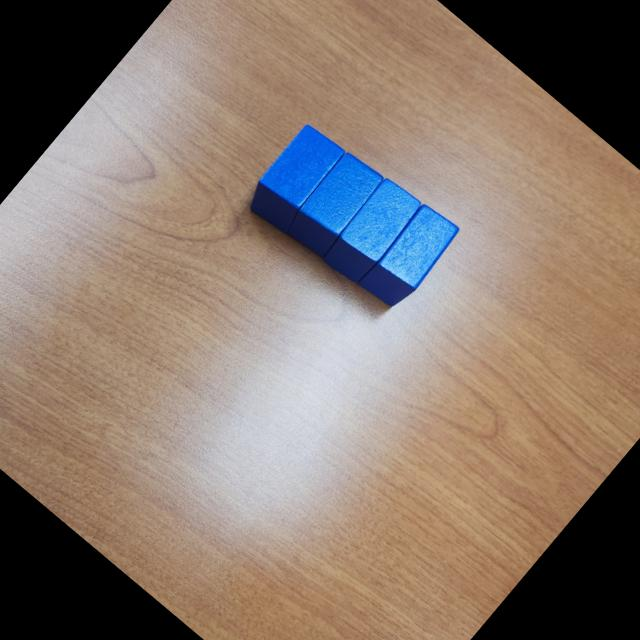blue: (316, 174, 426, 290), (354, 200, 463, 316), (238, 120, 346, 235), (278, 148, 386, 262)
